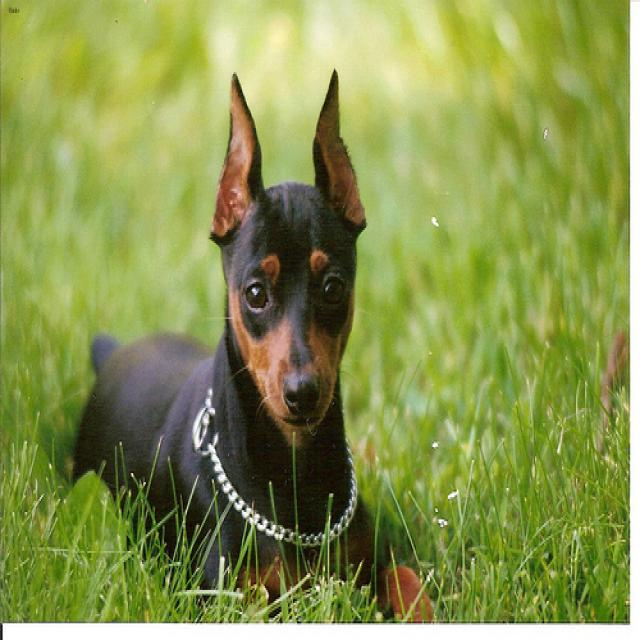dog-miniature_pinscher: (63, 54, 442, 636)
